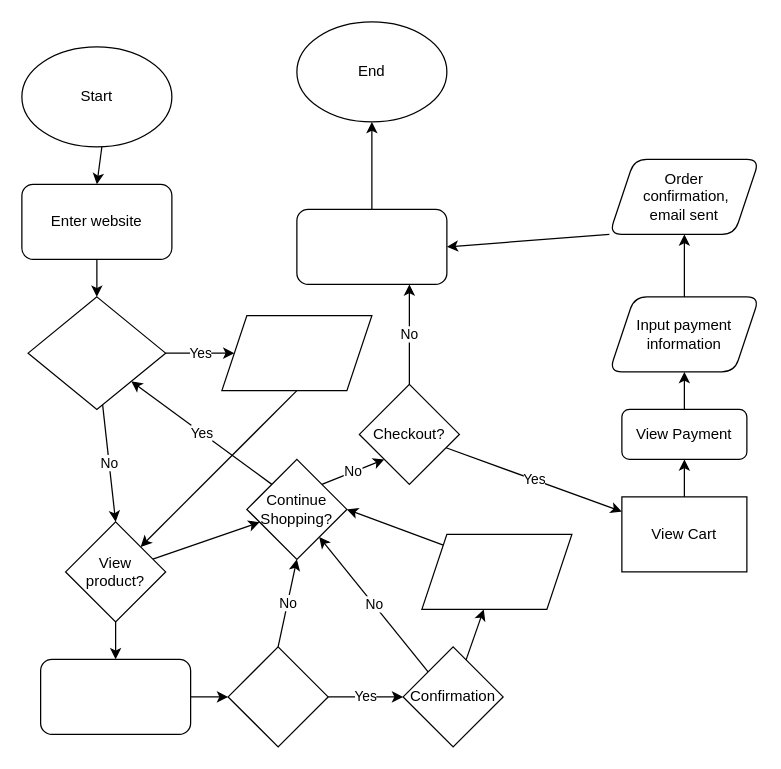
Some shapes in this 781 by 769 pixel diagram are drawn without their labels. Each missing label, with the centre of its shape:
"Add to Cart" belongs at (277,696).
"Item added to cart" belongs at (496,571).
"Leave Website" belongs at (371,246).
"Product name" belongs at (296,352).
"Product webpage opens" belongs at (115,696).
"Search for a product" belongs at (96,352).
